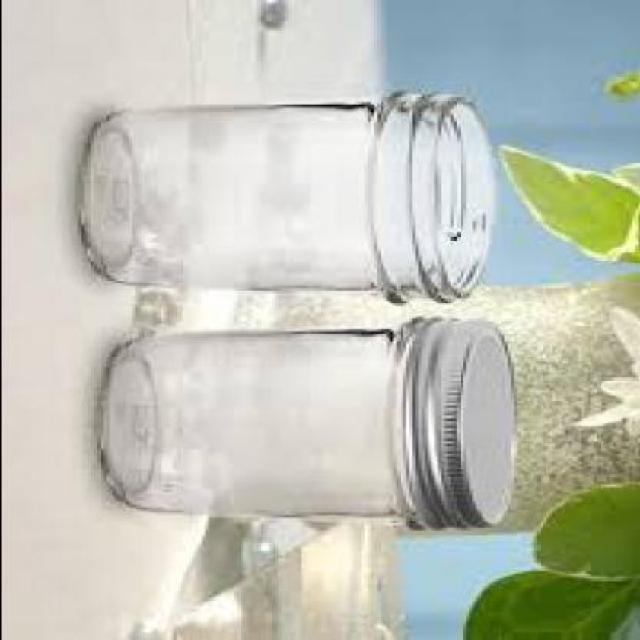GLASS: (80, 89, 497, 302), (98, 326, 414, 512)
METAL: (392, 310, 522, 528)
